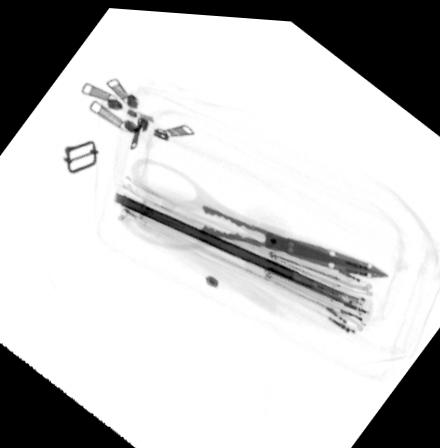Scissors: (124, 154, 388, 274)
